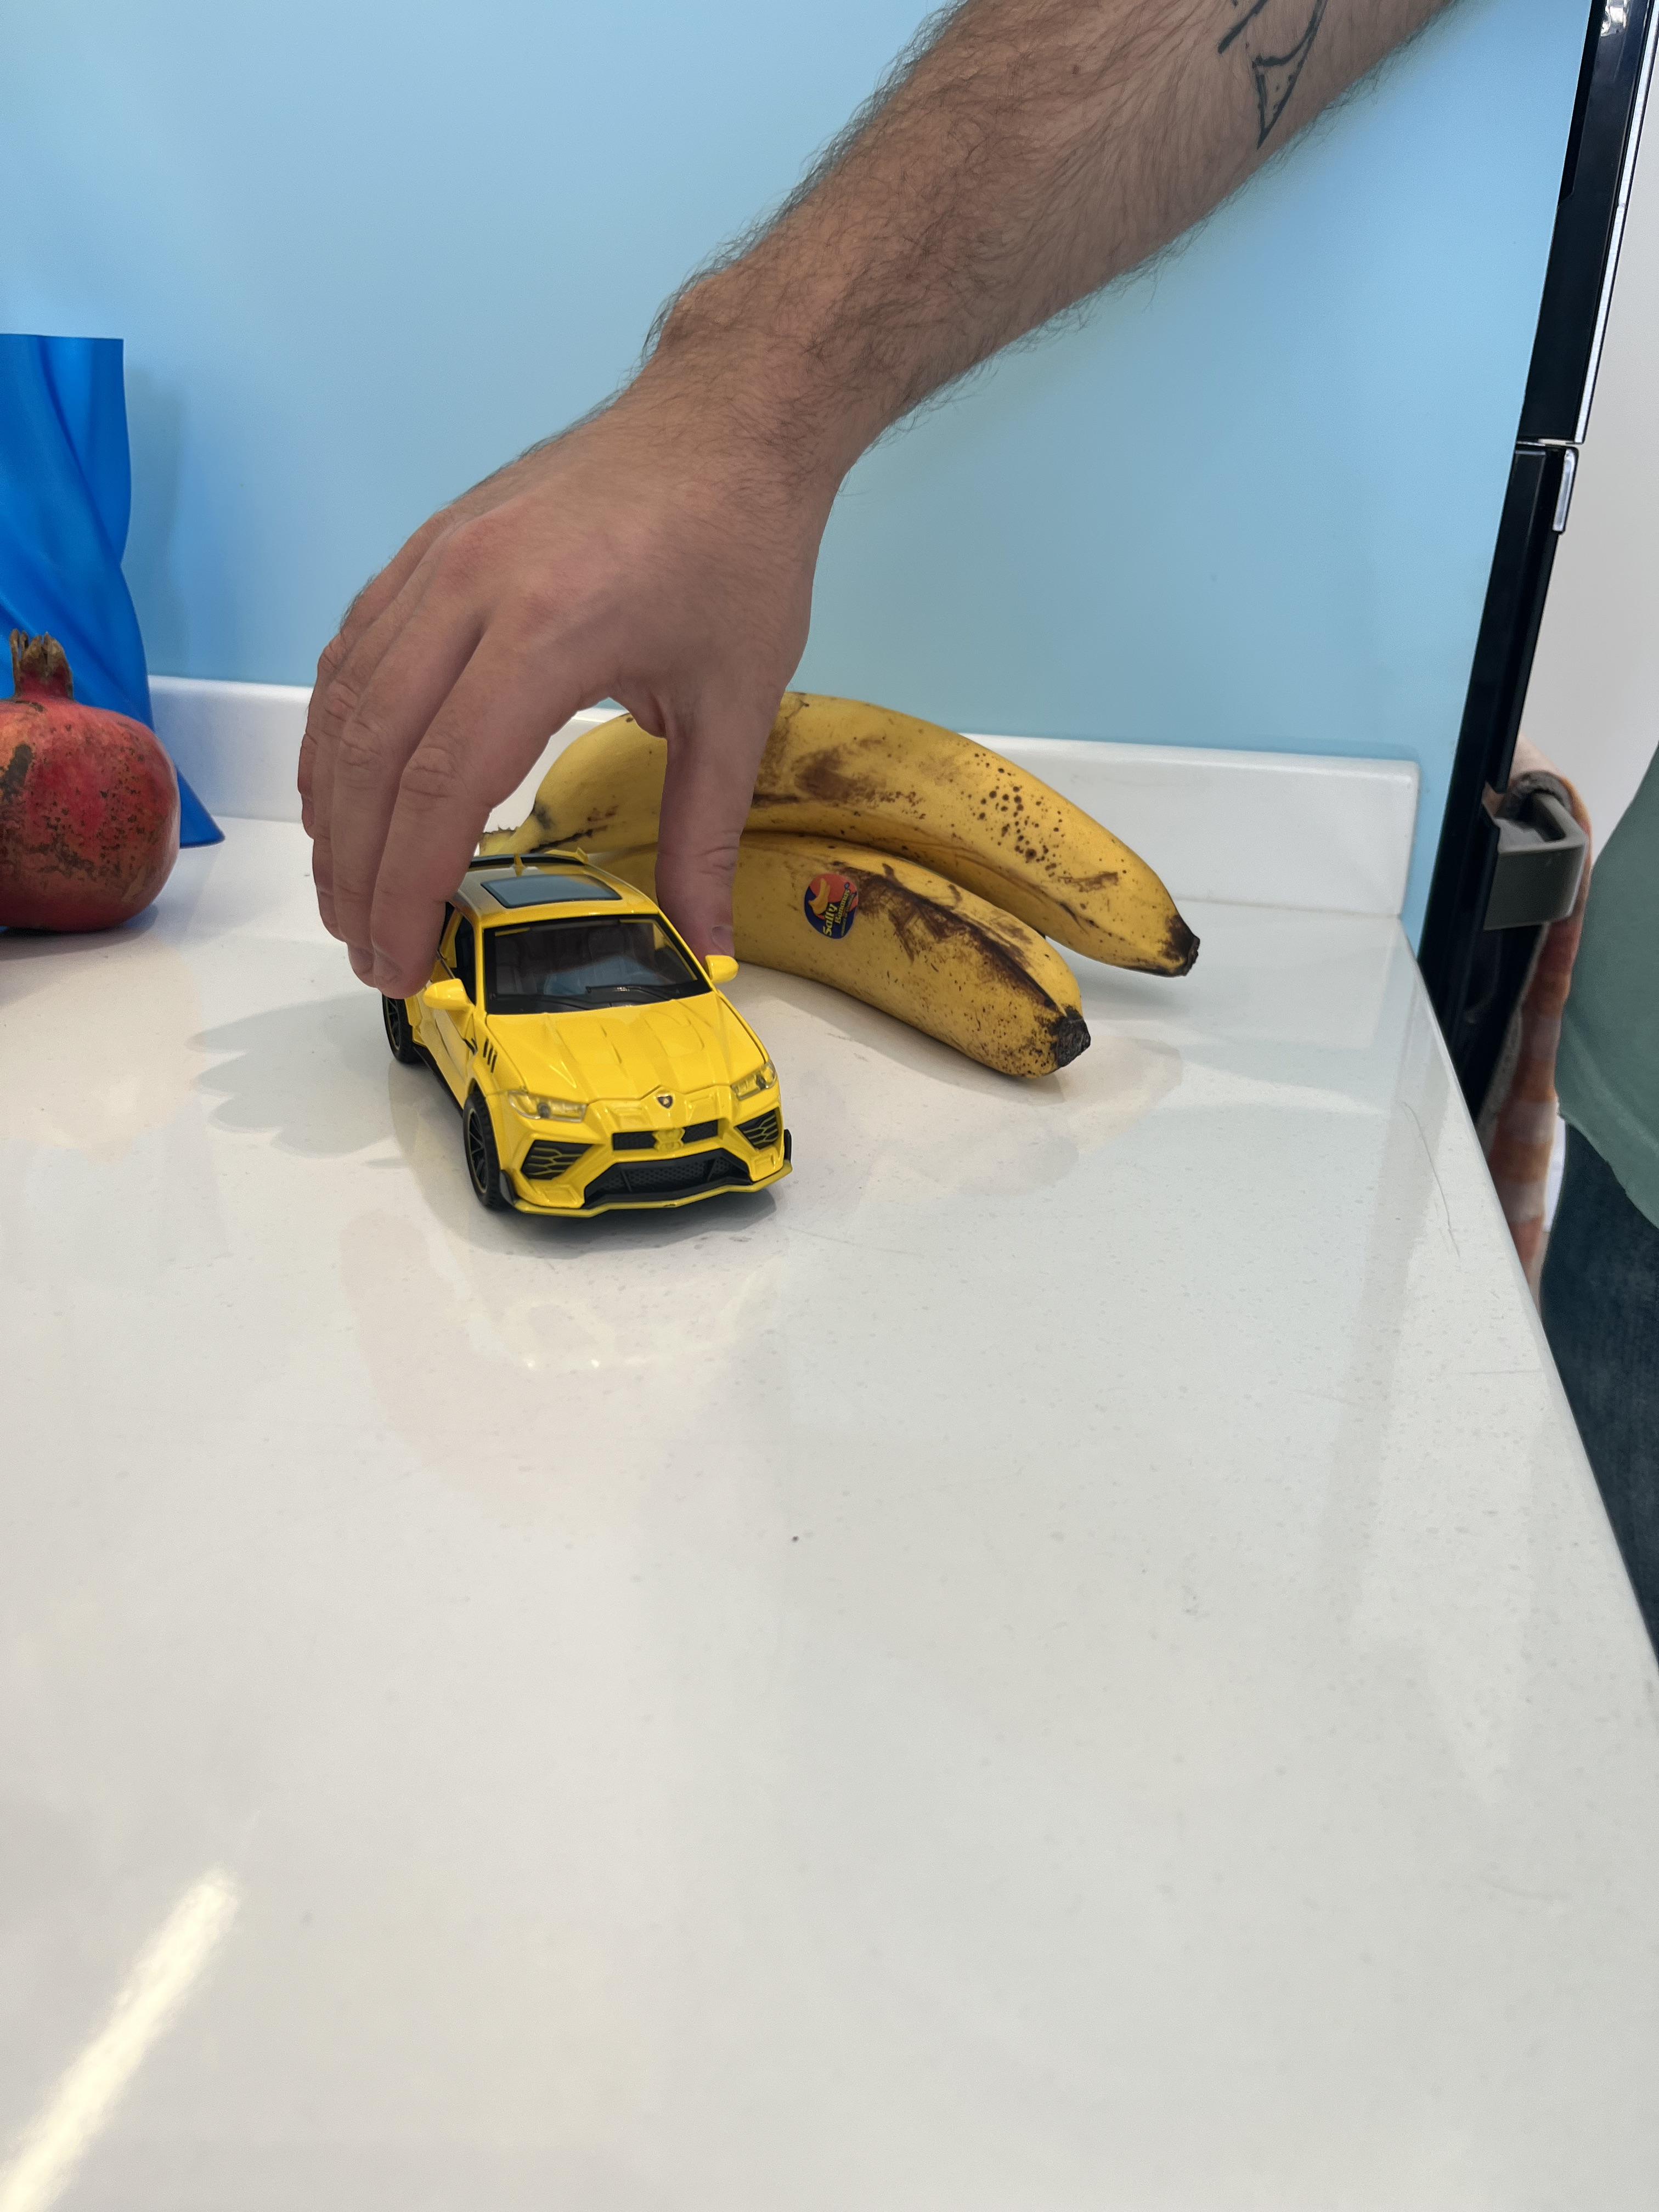lambo: (368, 873, 803, 1214)
